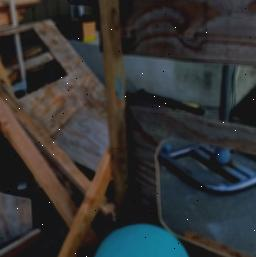algae: (91, 222, 191, 257)
